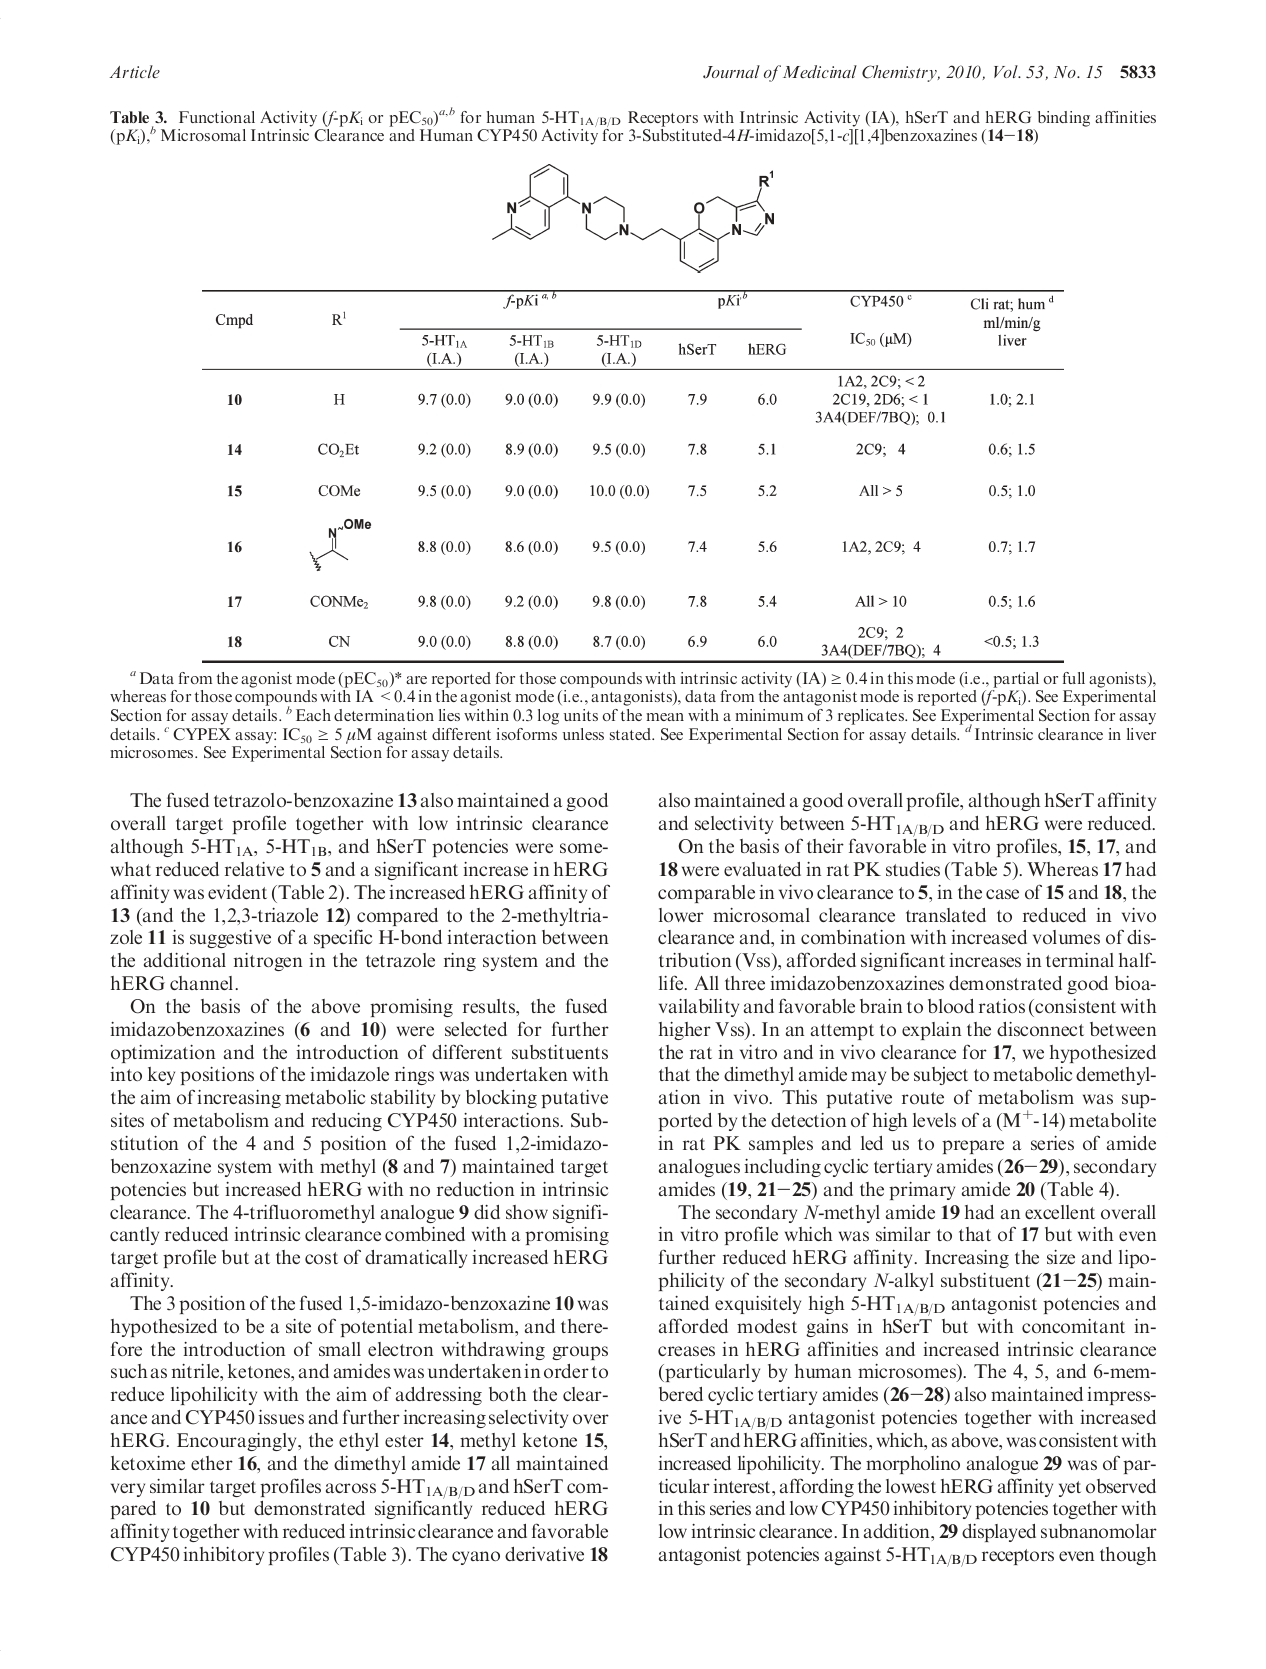exist_molecular: (488, 162, 781, 277)
